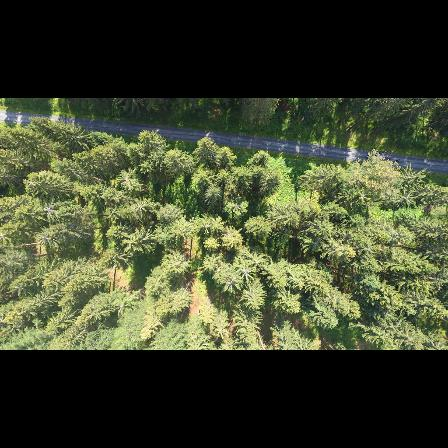Sick: (233, 263, 259, 284), (66, 268, 91, 289), (37, 200, 59, 217)
